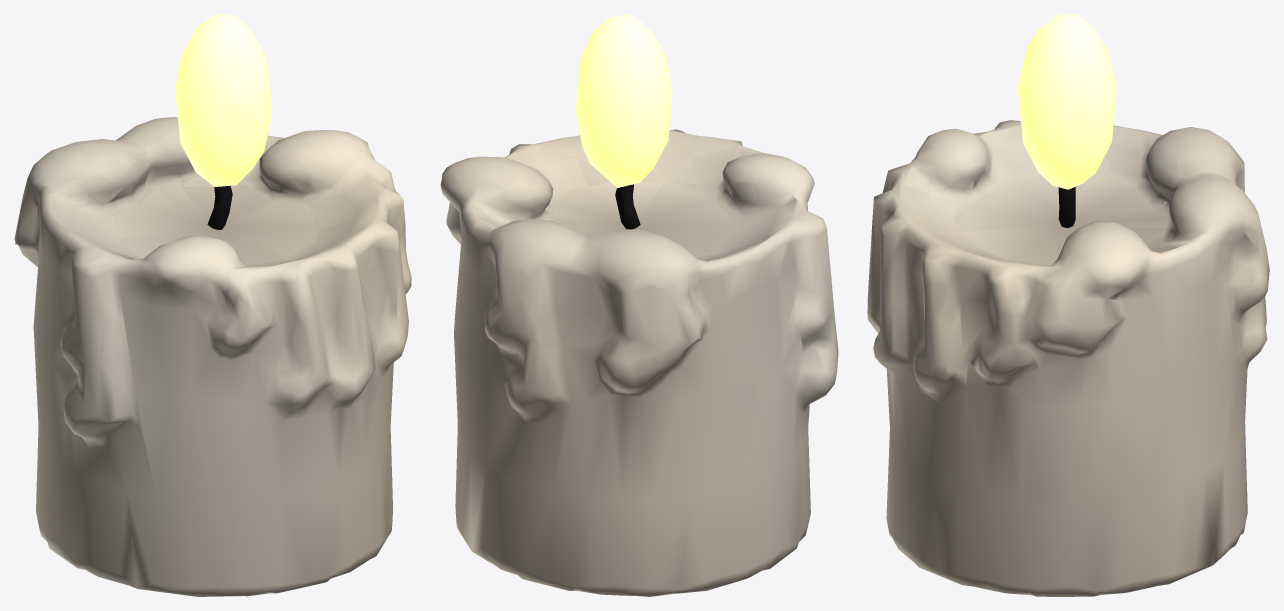
Rendered from frost_candle_stub_lod1.glb.
3 views of the same model, side by side, from view 1: azimuth 30°, elevation 25°; view 2: azimuth 150°, elevation 25°; view 3: azimuth 270°, elevation 25° (orthographic).
Parts seen in each view (by area): view 1: frost_candle_stub.001, flame.001; view 2: frost_candle_stub.001, flame.001; view 3: frost_candle_stub.001, flame.001.
Part boxes in pixels (x1=…): frost_candle_stub.001: x1=14, y1=117, x2=411, y2=596; flame.001: x1=175, y1=14, x2=272, y2=186; frost_candle_stub.001: x1=440, y1=129, x2=838, y2=596; flame.001: x1=575, y1=14, x2=672, y2=187; frost_candle_stub.001: x1=867, y1=120, x2=1269, y2=596; flame.001: x1=1017, y1=14, x2=1116, y2=189.
Bounding box in the file's own units: 9.28 × 12.76 × 9.06.
